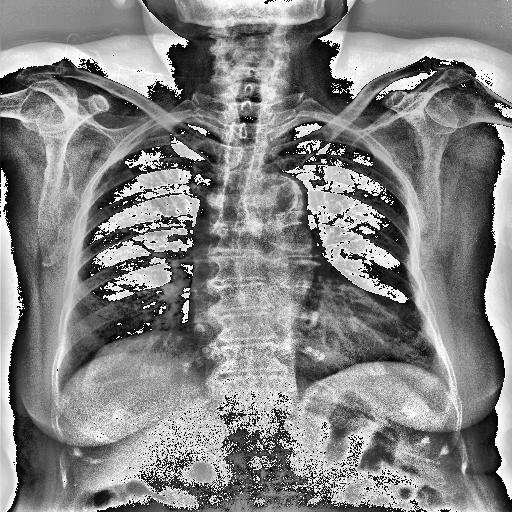0- Aortic enlargement: (242, 176, 310, 234), (249, 173, 310, 235), (252, 174, 308, 225)
11- Pleural thickening: (412, 276, 442, 358)
3- Cardiomegaly: (187, 284, 412, 363), (189, 300, 420, 364), (192, 297, 406, 355)
